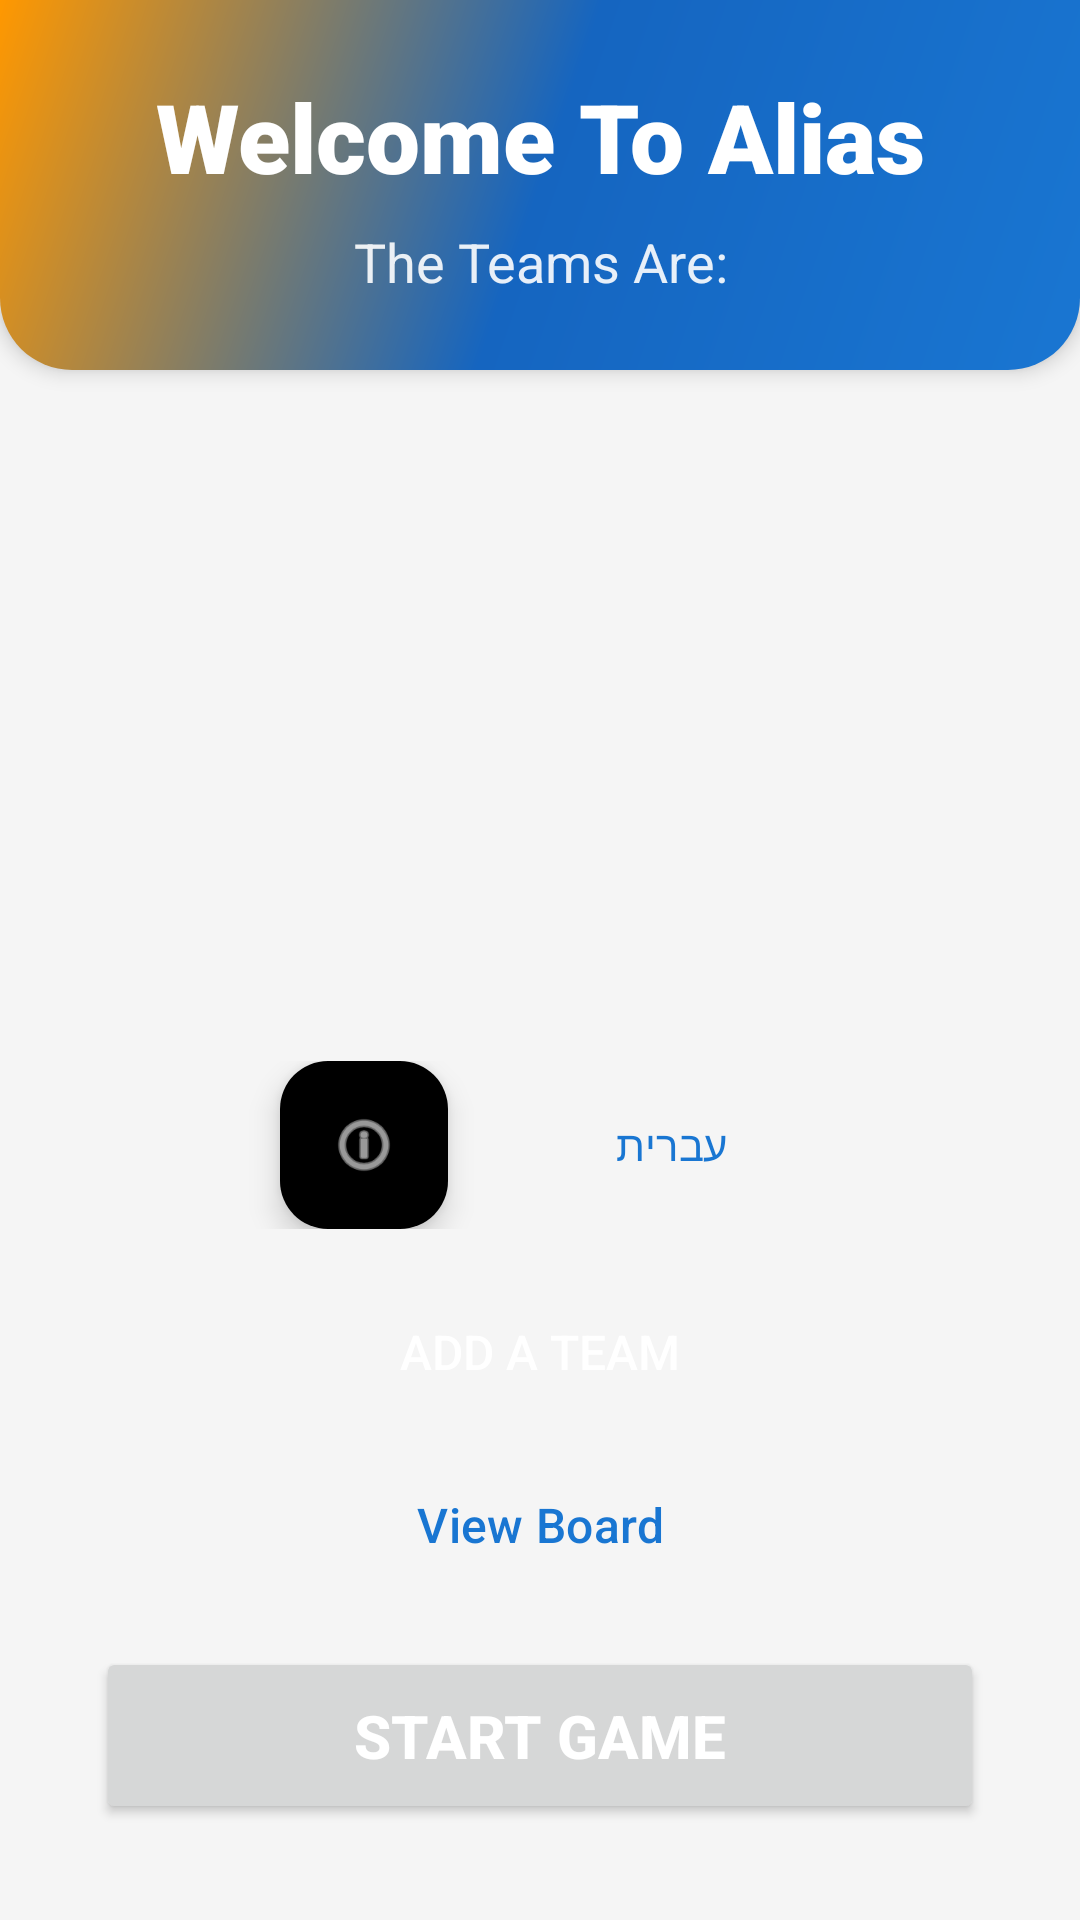

Screen size 1080px x 1920px. Icon name, then its center in pixels as [x,y]:
alias - how to play?: [364,1145]
